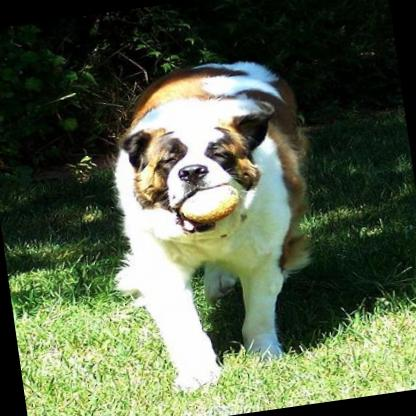Saint_Bernard: (78, 46, 343, 406)
